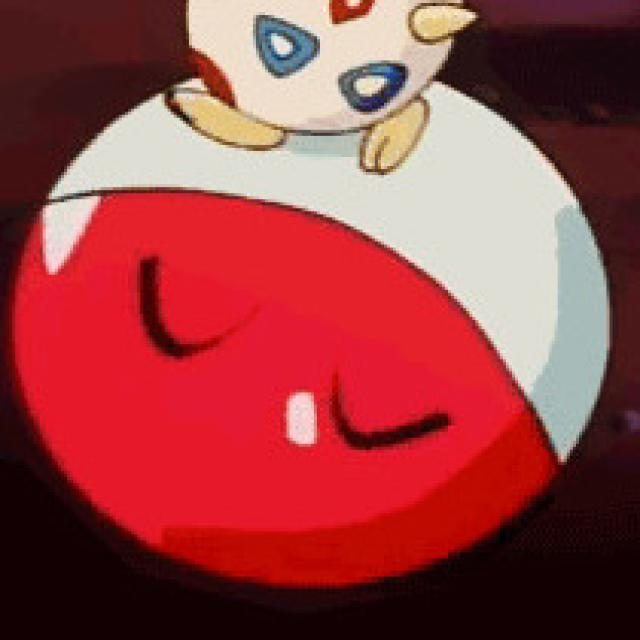Voltorb: (21, 61, 612, 584)
